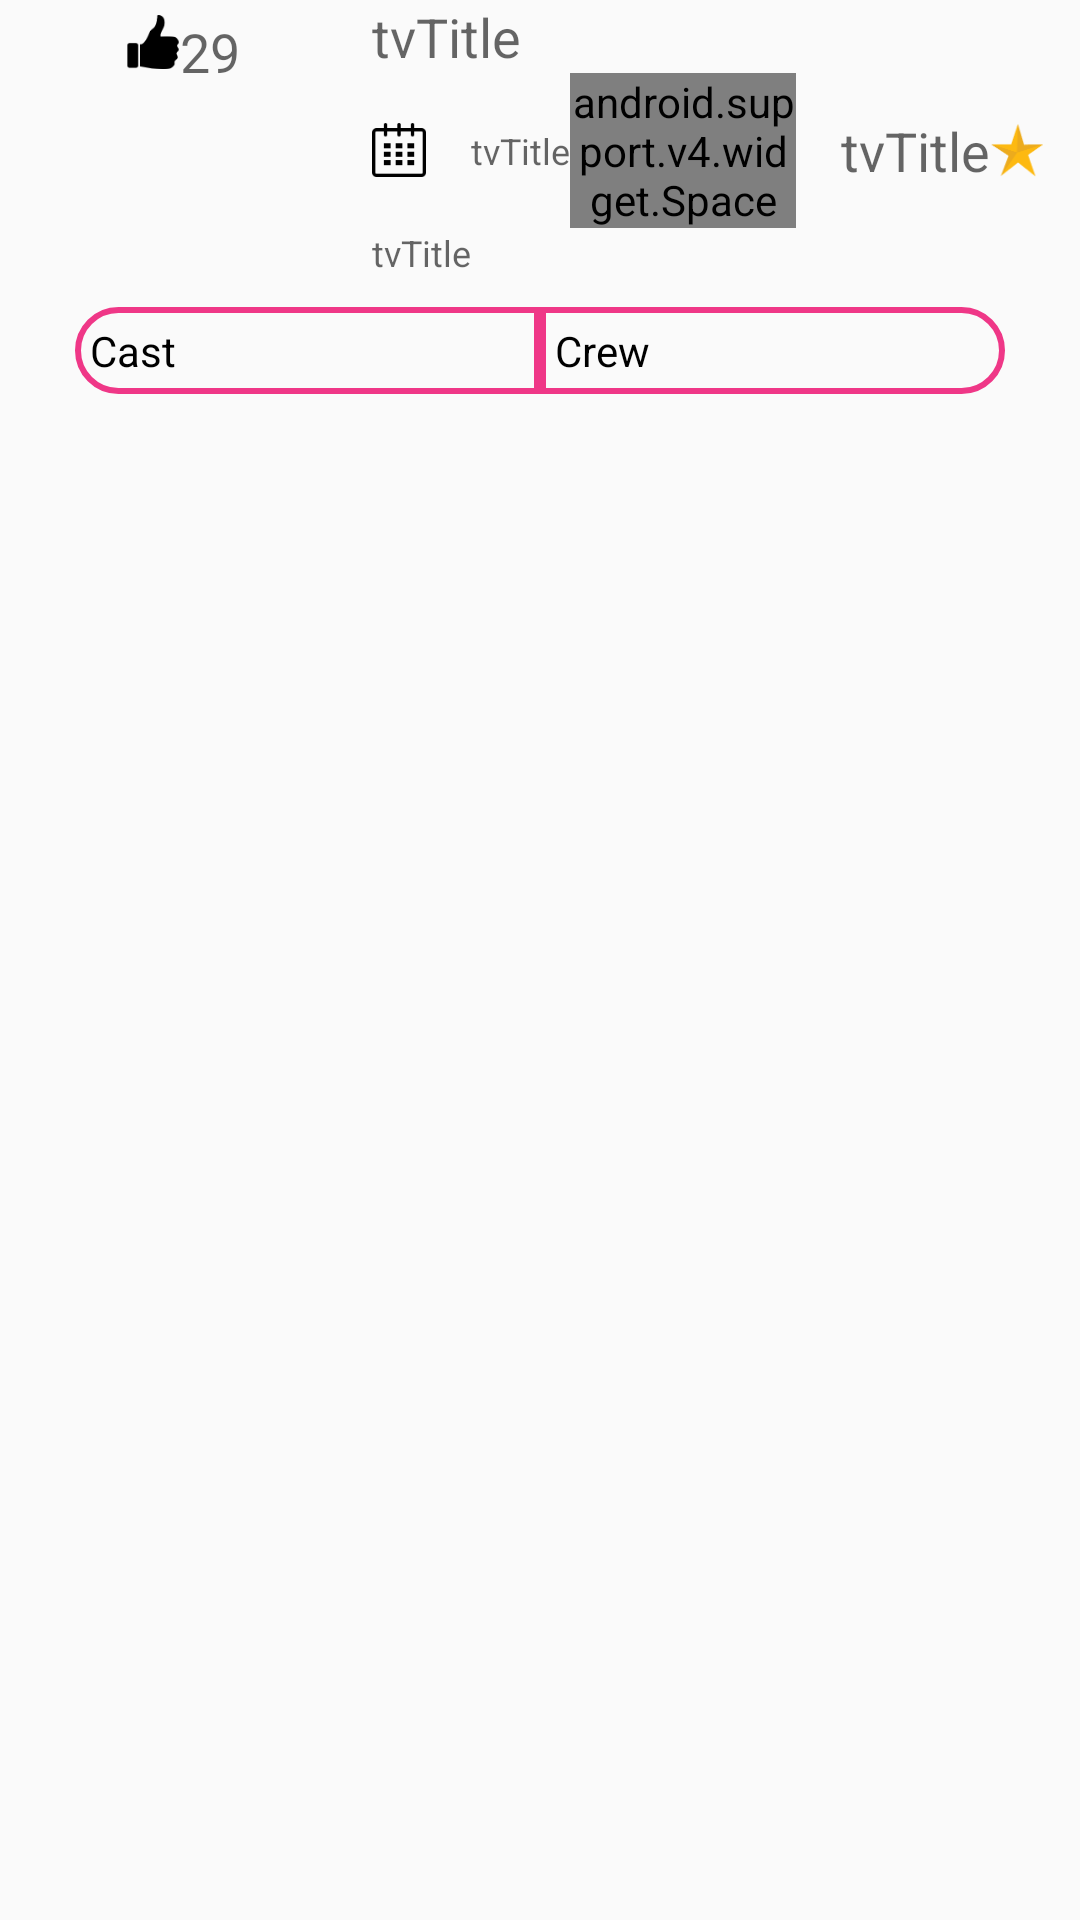

Named icons in this screenshot (1080px x 1920px) and their centers, (x=x, y=y):
date: (x=399, y=150)
star: (x=1017, y=150)
vote: (x=153, y=42)
